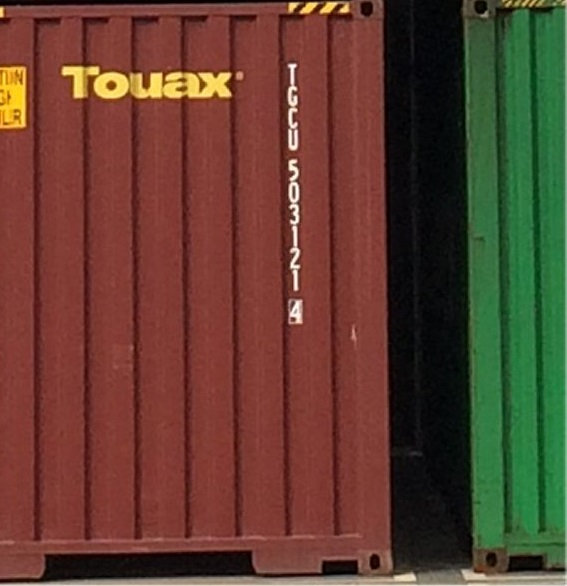container_no_door: (1, 1, 394, 578)
